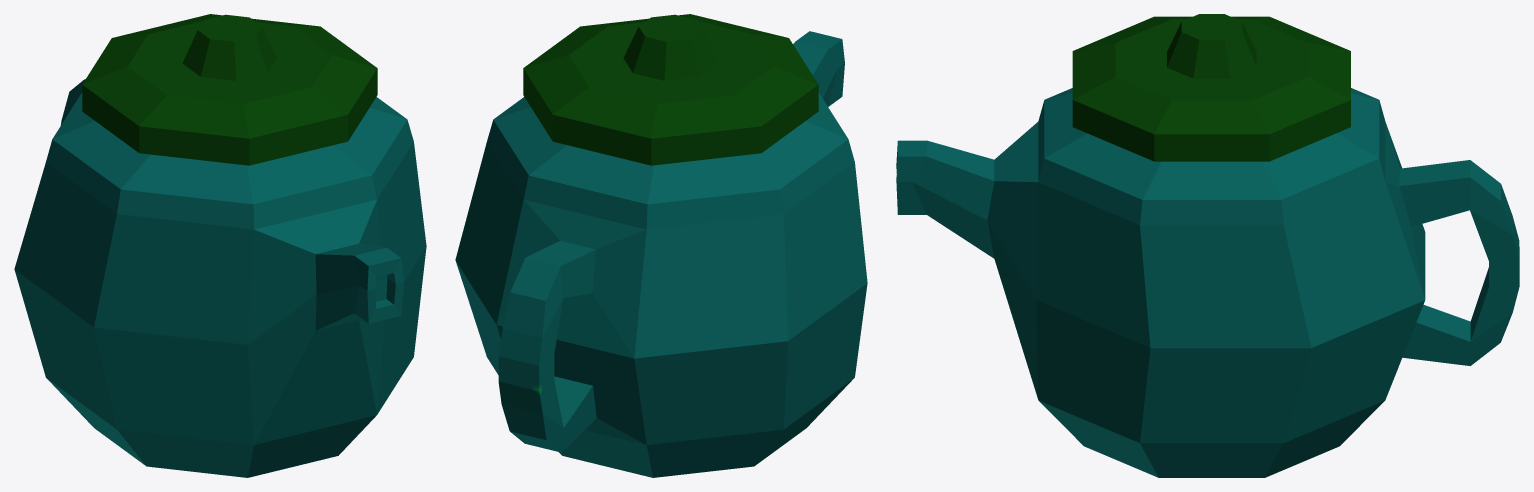
The model's file is Teekanne.fbx.
3 views of the same model, side by side, from view 1: azimuth 30°, elevation 25°; view 2: azimuth 150°, elevation 25°; view 3: azimuth 270°, elevation 25° (orthographic).
Visible parts, largest first — view 1: Teekanne; view 2: Teekanne; view 3: Teekanne.
Boxes of the visible parts, x1,y1,x2,y2 form: Teekanne: (14, 14, 426, 477); Teekanne: (455, 14, 867, 477); Teekanne: (896, 14, 1519, 477).
Bounding box in the file's own units: 281 × 316 × 450.
